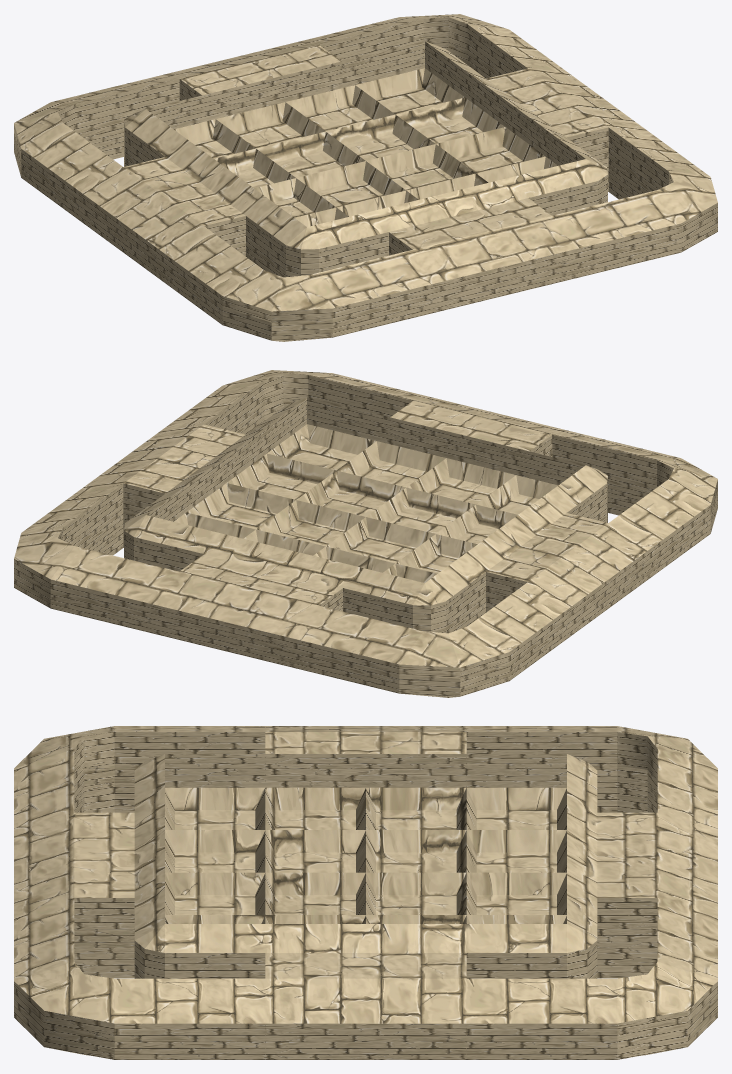
Rendered from CubeTablero.FBX.
3 renders of one model, top to bottom at view 1: azimuth 30°, elevation 25°; view 2: azimuth 150°, elevation 25°; view 3: azimuth 270°, elevation 25°, orthographic. The views are drawn at different scales.
Parts seen in each view (by area): view 1: Box001; view 2: Box001; view 3: Box001.
Boxes of the visible parts, x1,y1,x2,y2 form: Box001: [14, 14, 717, 341]; Box001: [14, 370, 717, 697]; Box001: [14, 726, 717, 1059].
Bounding box in the file's own units: 70 × 12.44 × 70.
Materials: 1 (1 with a texture image).
